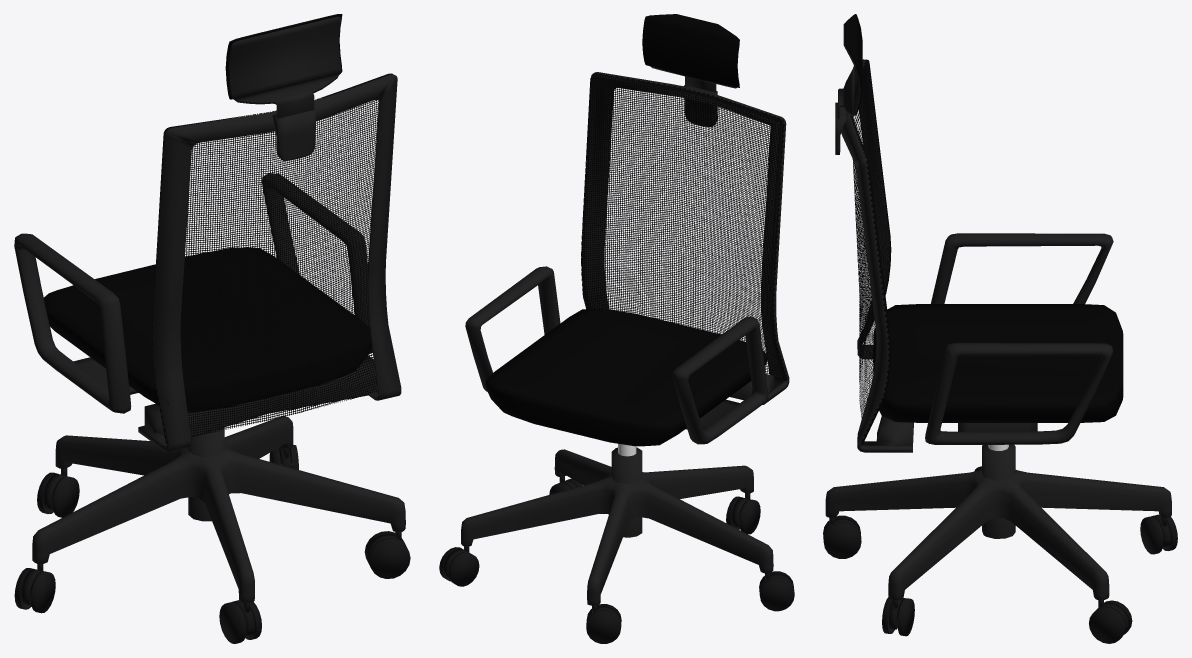
The model's file is 102_chair2.glb.
3 renders of one model, left to right at view 1: azimuth 30°, elevation 25°; view 2: azimuth 150°, elevation 25°; view 3: azimuth 270°, elevation 25°, orthographic. The views are drawn at different scales.
Visible parts, largest first — view 1: Fabric.002, Back.002, Middle_Fabric.001, Chair, Middle.002, Roue02.002, Roue04.002, Roue05.002, Roue01.002; view 2: Fabric.002, Middle_Fabric.001, Back.002, Chair, Middle.002, Roue03.002, Roue05.002, Roue04.002, Roue01.002; view 3: Middle_Fabric.001, Chair, Middle.002, Back.002, Fabric.002, Roue03.002, Roue01.002, Roue04.002, Roue02.002.
Boxes of the visible parts, bbox=[...] form: Fabric.002: bbox=[152, 73, 393, 444]; Back.002: bbox=[138, 14, 401, 452]; Middle_Fabric.001: bbox=[44, 247, 371, 412]; Chair: bbox=[32, 416, 405, 602]; Middle.002: bbox=[14, 173, 372, 413]; Roue02.002: bbox=[364, 531, 410, 578]; Roue04.002: bbox=[37, 468, 79, 517]; Roue05.002: bbox=[14, 564, 55, 613]; Roue01.002: bbox=[219, 600, 261, 643]; Fabric.002: bbox=[581, 73, 787, 380]; Middle_Fabric.001: bbox=[485, 308, 767, 446]; Back.002: bbox=[581, 14, 789, 404]; Chair: bbox=[461, 447, 773, 605]; Middle.002: bbox=[465, 266, 768, 456]; Roue03.002: bbox=[439, 546, 479, 586]; Roue05.002: bbox=[759, 571, 794, 611]; Roue04.002: bbox=[586, 604, 621, 643]; Roue01.002: bbox=[726, 493, 760, 534]; Middle_Fabric.001: bbox=[873, 304, 1123, 422]; Chair: bbox=[825, 444, 1171, 600]; Middle.002: bbox=[925, 233, 1113, 450]; Back.002: bbox=[835, 14, 913, 452]; Fabric.002: bbox=[850, 59, 891, 444]; Roue03.002: bbox=[1089, 600, 1132, 643]; Roue01.002: bbox=[823, 515, 861, 558]; Roue04.002: bbox=[1140, 514, 1177, 554]; Roue02.002: bbox=[882, 597, 914, 636].
Size of the model in its own units: 2.14 by 3.49 by 2.06.
Materials: 8 (8 with a texture image).
